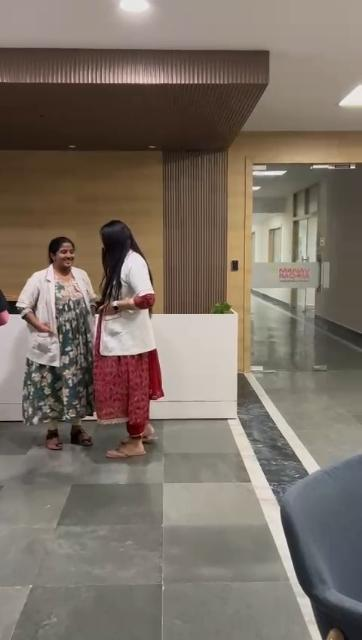floor: (1, 338, 362, 640)
moving-obj: (64, 191, 160, 447), (36, 228, 84, 448)
